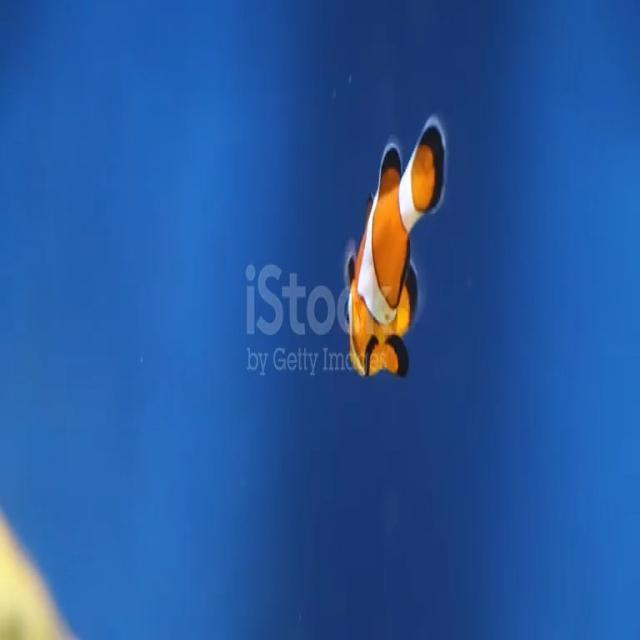fish: (346, 115, 442, 380)
